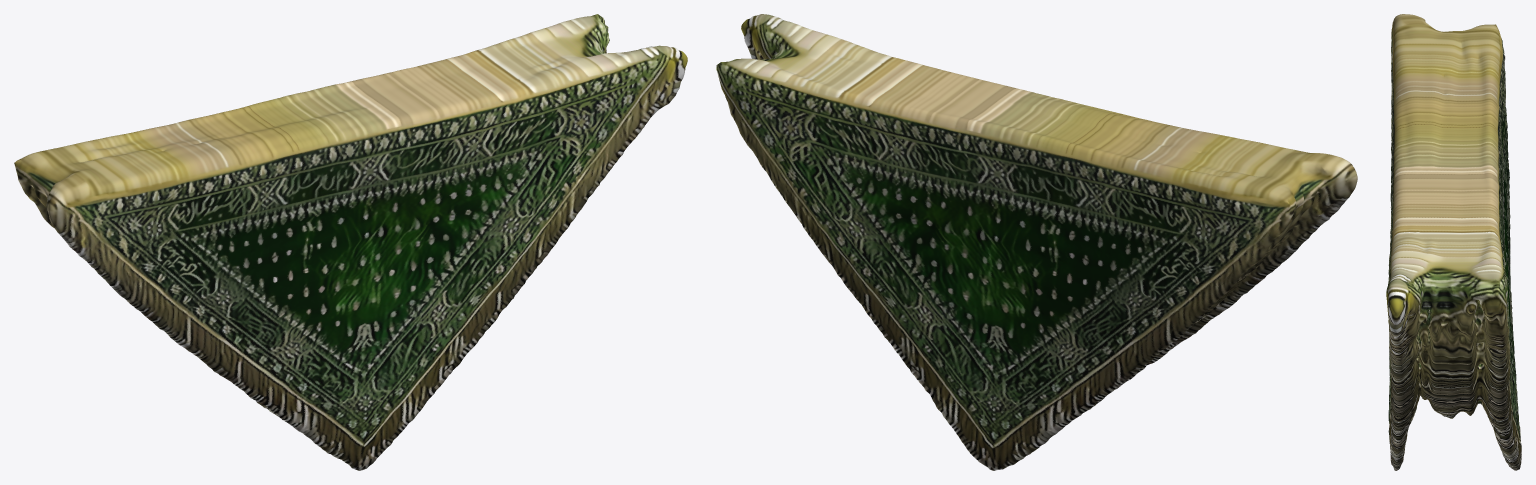
Rendered from kfl-2204.glb.
The picture shows the model from 3 angles, left to right: view 1: azimuth 30°, elevation 25°; view 2: azimuth 150°, elevation 25°; view 3: azimuth 270°, elevation 25°; orthographic projection. The views are drawn at different scales.
Parts seen in each view (by area): view 1: kfl-2204; view 2: kfl-2204; view 3: kfl-2204.
Boxes of the visible parts, x1=… form: kfl-2204: x1=14, y1=14, x2=687, y2=470; kfl-2204: x1=716, y1=14, x2=1357, y2=470; kfl-2204: x1=1386, y1=14, x2=1521, y2=470.
Bounding box in the file's own units: 0.9909 × 0.5229 × 0.1979.
1 material, 1 textured.
